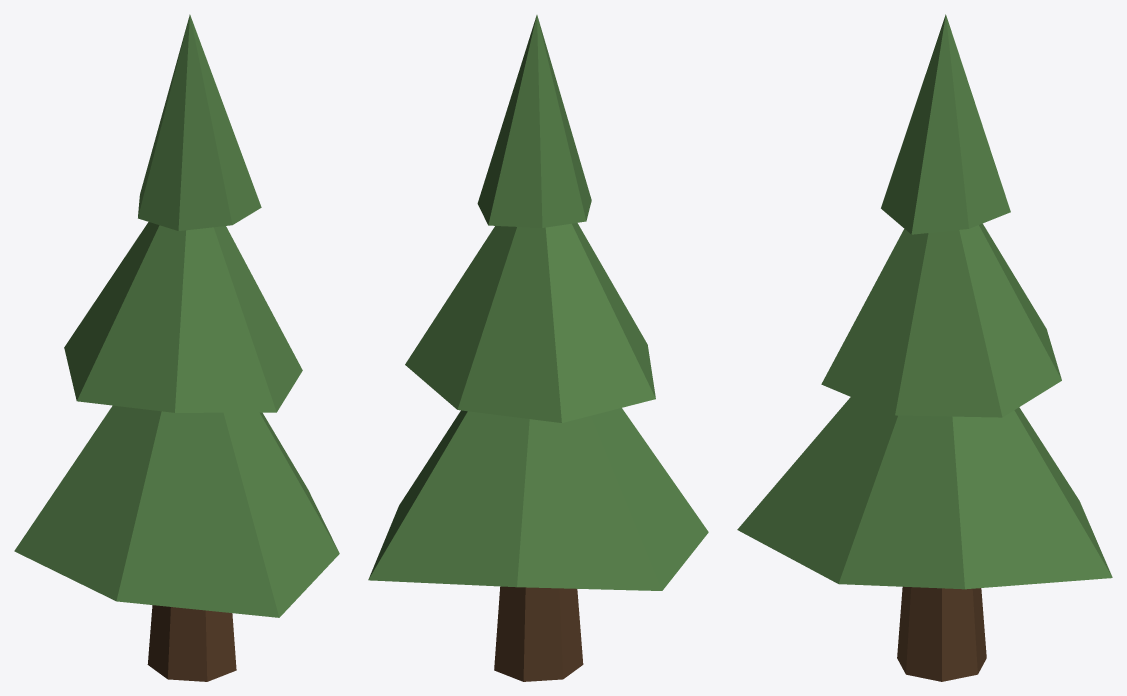
File: forest_conifer_small_v31.glb
3 renders of one model, left to right at view 1: azimuth 30°, elevation 25°; view 2: azimuth 150°, elevation 25°; view 3: azimuth 270°, elevation 25°, orthographic.
Parts seen in each view (by area): view 1: forest_conifer_small; view 2: forest_conifer_small; view 3: forest_conifer_small.
Boxes of the visible parts, bbox=[...] form: forest_conifer_small: bbox=[14, 14, 339, 681]; forest_conifer_small: bbox=[368, 15, 708, 681]; forest_conifer_small: bbox=[737, 14, 1112, 681].
Size of the model in its own units: 0.7667 by 1.71 by 0.8981.
